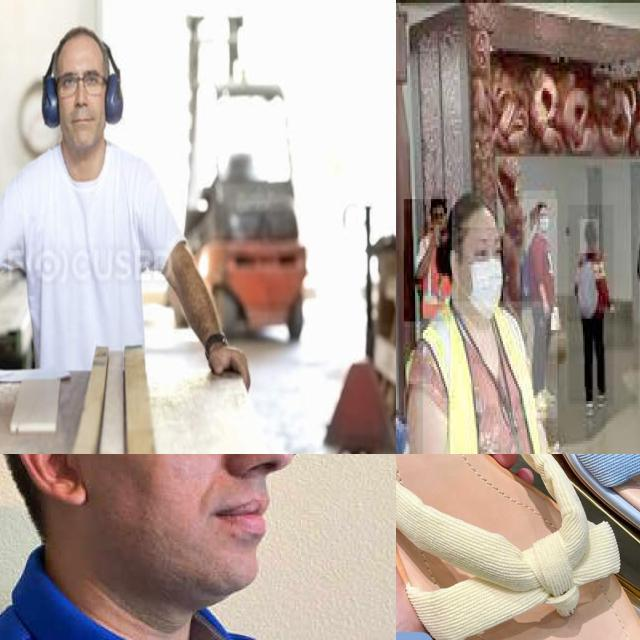Ear-protection: (39, 27, 127, 166)
No_Ear-Protection: (12, 454, 88, 508)
Sandals: (396, 454, 640, 640), (421, 454, 640, 591)
face_mask: (458, 228, 505, 318), (538, 205, 548, 228)
glasses: (54, 70, 110, 96)
head_nohelmet: (455, 193, 500, 230), (580, 219, 600, 256), (431, 190, 447, 224)
person: (0, 10, 267, 384), (416, 199, 559, 454), (569, 205, 615, 407), (522, 191, 558, 418), (404, 199, 453, 324)
shoes: (593, 383, 611, 411), (580, 393, 596, 421)
vest: (423, 301, 548, 454)
